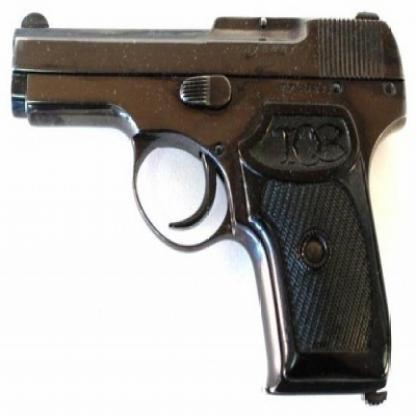Guns: (4, 8, 407, 408)
